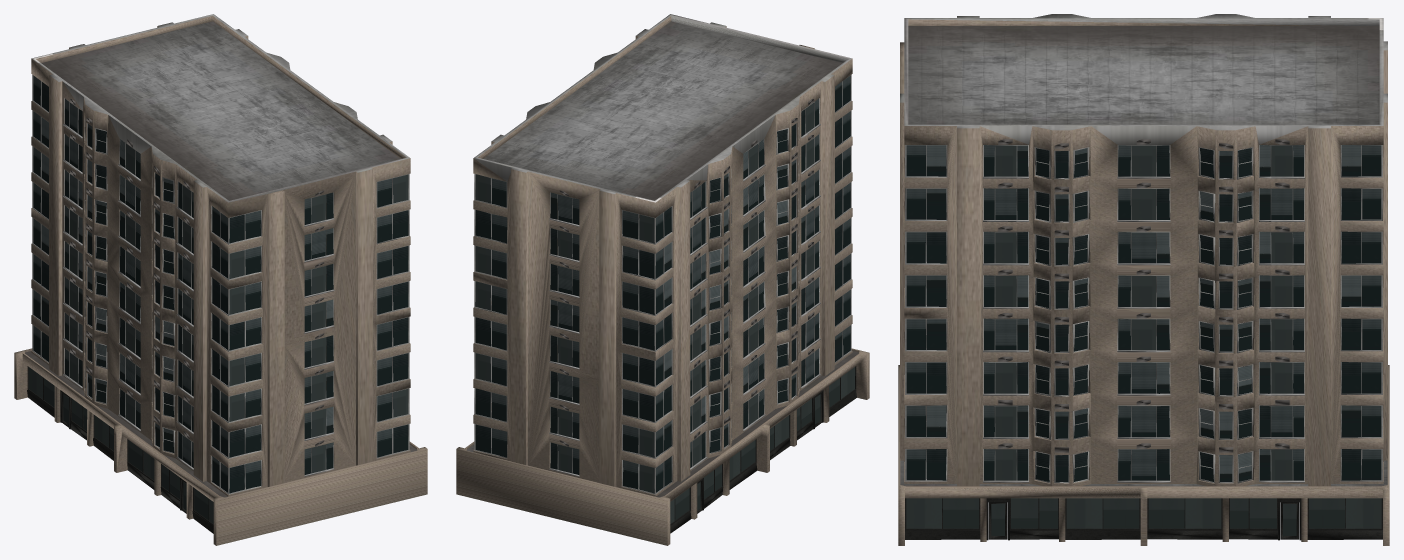
File: brick-apt.glb
3 renders of one model, left to right at view 1: azimuth 30°, elevation 25°; view 2: azimuth 150°, elevation 25°; view 3: azimuth 270°, elevation 25°, orthographic. The views are drawn at different scales.
Parts seen in each view (by area): view 1: Brick_Apartment_Short; view 2: Brick_Apartment_Short; view 3: Brick_Apartment_Short.
Part boxes in pixels (box(x1,y1,x2,y2)): Brick_Apartment_Short: box(14, 14, 427, 545); Brick_Apartment_Short: box(456, 14, 869, 545); Brick_Apartment_Short: box(898, 14, 1389, 545).
Size of the model in its own units: 17.35 by 26.5 by 28.7.
Materials: 1 (1 with a texture image).
